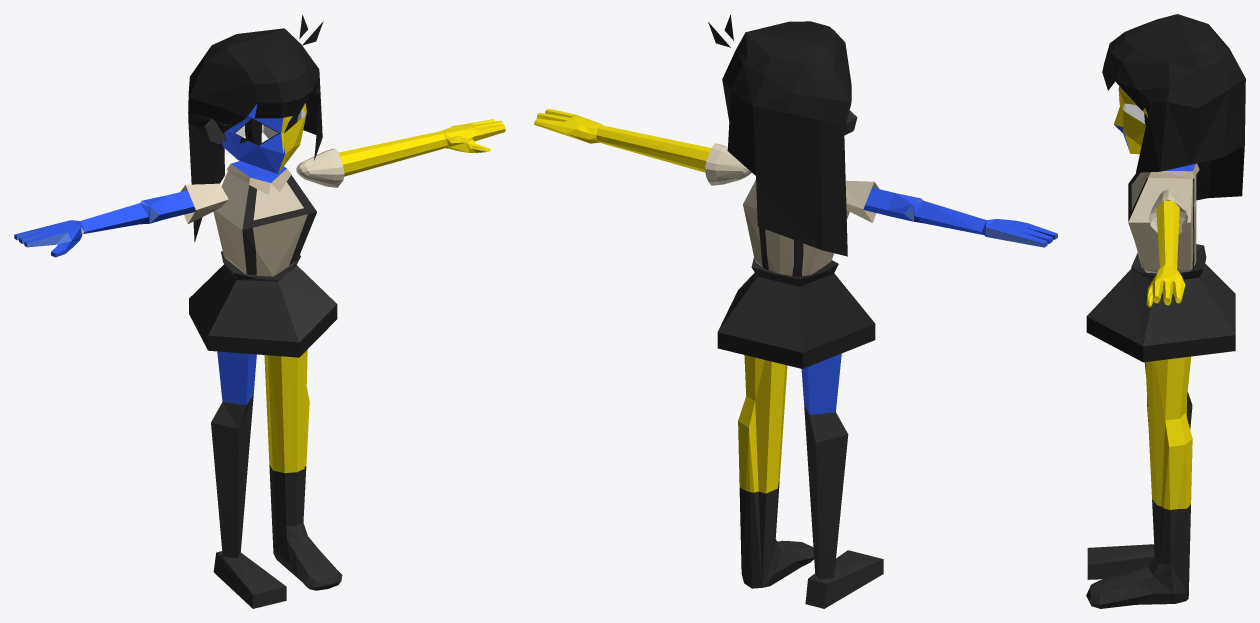
File: ENA splitted.obj
The picture shows the model from 3 angles, left to right: view 1: azimuth 30°, elevation 25°; view 2: azimuth 150°, elevation 25°; view 3: azimuth 270°, elevation 25°; orthographic projection. The views are drawn at different scales.
Parts seen in each view (by area): view 1: 3-_EnaMat_3-_EnaMat_4.3-_EnaMat.007_3-_EnaMat_3-_EnaMat_4.3-_Ena, 3-_EnaMat_3-_EnaMat_4.3-_EnaMat.012_3-_EnaMat_3-_EnaMat_4.3-_Ena, 3-_EnaMat_3-_EnaMat_4.3-_EnaMat.006_3-_EnaMat_3-_EnaMat_4.3-_Ena, 3-_EnaMat_3-_EnaMat_4.3-_EnaMat.010_3-_EnaMat_3-_EnaMat_4.3-_Ena, 3-_EnaMat_3-_EnaMat_4.3-_EnaMat.014_3-_EnaMat_3-_EnaMat_4.3-_Ena, 3-_EnaMat_3-_EnaMat_4.3-_EnaMat.016_3-_EnaMat_3-_EnaMat_4.3-_Ena, 3-_EnaMat_3-_EnaMat_4.3-_EnaMat.017_3-_EnaMat_3-_EnaMat_4.3-_Ena, 3-_EnaMat_3-_EnaMat_4.3-_EnaMat.009_3-_EnaMat_3-_EnaMat_4.3-_Ena, 3-_EnaMat_3-_EnaMat_4.3-_EnaMat.013_3-_EnaMat_3-_EnaMat_4.3-_Ena, 3-_EnaMat_3-_EnaMat_4.3-_EnaMat.003_3-_EnaMat_3-_EnaMat_4.3-_Ena, 3-_EnaMat_3-_EnaMat_4.3-_EnaMat.008_3-_EnaMat_3-_EnaMat_4.3-_Ena, 3-_EnaMat_3-_EnaMat_4.3-_EnaMat.011_3-_EnaMat_3-_EnaMat_4.3-_Ena (+3 smaller); view 2: 3-_EnaMat_3-_EnaMat_4.3-_EnaMat.007_3-_EnaMat_3-_EnaMat_4.3-_Ena, 3-_EnaMat_3-_EnaMat_4.3-_EnaMat.012_3-_EnaMat_3-_EnaMat_4.3-_Ena, 3-_EnaMat_3-_EnaMat_4.3-_EnaMat.010_3-_EnaMat_3-_EnaMat_4.3-_Ena, 3-_EnaMat_3-_EnaMat_4.3-_EnaMat.014_3-_EnaMat_3-_EnaMat_4.3-_Ena, 3-_EnaMat_3-_EnaMat_4.3-_EnaMat.006_3-_EnaMat_3-_EnaMat_4.3-_Ena, 3-_EnaMat_3-_EnaMat_4.3-_EnaMat.017_3-_EnaMat_3-_EnaMat_4.3-_Ena, 3-_EnaMat_3-_EnaMat_4.3-_EnaMat.016_3-_EnaMat_3-_EnaMat_4.3-_Ena, 3-_EnaMat_3-_EnaMat_4.3-_EnaMat.013_3-_EnaMat_3-_EnaMat_4.3-_Ena, 3-_EnaMat_3-_EnaMat_4.3-_EnaMat.009_3-_EnaMat_3-_EnaMat_4.3-_Ena, 3-_EnaMat_3-_EnaMat_4.3-_EnaMat.003_3-_EnaMat_3-_EnaMat_4.3-_Ena, 3-_EnaMat_3-_EnaMat_4.3-_EnaMat.008_3-_EnaMat_3-_EnaMat_4.3-_Ena, 3-_EnaMat_3-_EnaMat_4.3-_EnaMat.005_3-_EnaMat_3-_EnaMat_4.3-_Ena (+3 smaller); view 3: 3-_EnaMat_3-_EnaMat_4.3-_EnaMat.007_3-_EnaMat_3-_EnaMat_4.3-_Ena, 3-_EnaMat_3-_EnaMat_4.3-_EnaMat.012_3-_EnaMat_3-_EnaMat_4.3-_Ena, 3-_EnaMat_3-_EnaMat_4.3-_EnaMat.010_3-_EnaMat_3-_EnaMat_4.3-_Ena, 3-_EnaMat_3-_EnaMat_4.3-_EnaMat.006_3-_EnaMat_3-_EnaMat_4.3-_Ena, 3-_EnaMat_3-_EnaMat_4.3-_EnaMat.016_3-_EnaMat_3-_EnaMat_4.3-_Ena, 3-_EnaMat_3-_EnaMat_4.3-_EnaMat.008_3-_EnaMat_3-_EnaMat_4.3-_Ena, 3-_EnaMat_3-_EnaMat_4.3-_EnaMat.017_3-_EnaMat_3-_EnaMat_4.3-_Ena, 3-_EnaMat_3-_EnaMat_4.3-_EnaMat.013_3-_EnaMat_3-_EnaMat_4.3-_Ena, 3-_EnaMat_3-_EnaMat_4.3-_EnaMat.015_3-_EnaMat_3-_EnaMat_4.3-_Ena, 3-_EnaMat_3-_EnaMat_4.3-_EnaMat.005_3-_EnaMat_3-_EnaMat_4.3-_Ena.
Part boxes in pixels (x1,y1,x2,y2): 3-_EnaMat_3-_EnaMat_4.3-_EnaMat.007_3-_EnaMat_3-_EnaMat_4.3-_Ena: [188, 14, 323, 242]; 3-_EnaMat_3-_EnaMat_4.3-_EnaMat.012_3-_EnaMat_3-_EnaMat_4.3-_Ena: [189, 251, 337, 357]; 3-_EnaMat_3-_EnaMat_4.3-_EnaMat.006_3-_EnaMat_3-_EnaMat_4.3-_Ena: [213, 161, 316, 276]; 3-_EnaMat_3-_EnaMat_4.3-_EnaMat.010_3-_EnaMat_3-_EnaMat_4.3-_Ena: [265, 382, 309, 525]; 3-_EnaMat_3-_EnaMat_4.3-_EnaMat.014_3-_EnaMat_3-_EnaMat_4.3-_Ena: [211, 395, 253, 558]; 3-_EnaMat_3-_EnaMat_4.3-_EnaMat.016_3-_EnaMat_3-_EnaMat_4.3-_Ena: [272, 518, 342, 590]; 3-_EnaMat_3-_EnaMat_4.3-_EnaMat.017_3-_EnaMat_3-_EnaMat_4.3-_Ena: [213, 551, 286, 608]; 3-_EnaMat_3-_EnaMat_4.3-_EnaMat.009_3-_EnaMat_3-_EnaMat_4.3-_Ena: [142, 183, 228, 223]; 3-_EnaMat_3-_EnaMat_4.3-_EnaMat.013_3-_EnaMat_3-_EnaMat_4.3-_Ena: [296, 145, 378, 187]; 3-_EnaMat_3-_EnaMat_4.3-_EnaMat.003_3-_EnaMat_3-_EnaMat_4.3-_Ena: [217, 351, 256, 405]; 3-_EnaMat_3-_EnaMat_4.3-_EnaMat.008_3-_EnaMat_3-_EnaMat_4.3-_Ena: [264, 350, 307, 392]; 3-_EnaMat_3-_EnaMat_4.3-_EnaMat.011_3-_EnaMat_3-_EnaMat_4.3-_Ena: [14, 220, 84, 257]; 3-_EnaMat_3-_EnaMat_4.3-_EnaMat.007_3-_EnaMat_3-_EnaMat_4.3-_Ena: [708, 15, 857, 256]; 3-_EnaMat_3-_EnaMat_4.3-_EnaMat.012_3-_EnaMat_3-_EnaMat_4.3-_Ena: [717, 258, 875, 368]; 3-_EnaMat_3-_EnaMat_4.3-_EnaMat.010_3-_EnaMat_3-_EnaMat_4.3-_Ena: [738, 393, 785, 549]; 3-_EnaMat_3-_EnaMat_4.3-_EnaMat.014_3-_EnaMat_3-_EnaMat_4.3-_Ena: [804, 404, 848, 579]; 3-_EnaMat_3-_EnaMat_4.3-_EnaMat.006_3-_EnaMat_3-_EnaMat_4.3-_Ena: [743, 180, 849, 276]; 3-_EnaMat_3-_EnaMat_4.3-_EnaMat.017_3-_EnaMat_3-_EnaMat_4.3-_Ena: [805, 550, 883, 608]; 3-_EnaMat_3-_EnaMat_4.3-_EnaMat.016_3-_EnaMat_3-_EnaMat_4.3-_Ena: [741, 539, 814, 588]; 3-_EnaMat_3-_EnaMat_4.3-_EnaMat.013_3-_EnaMat_3-_EnaMat_4.3-_Ena: [667, 140, 751, 185]; 3-_EnaMat_3-_EnaMat_4.3-_EnaMat.009_3-_EnaMat_3-_EnaMat_4.3-_Ena: [845, 180, 920, 222]; 3-_EnaMat_3-_EnaMat_4.3-_EnaMat.003_3-_EnaMat_3-_EnaMat_4.3-_Ena: [801, 353, 841, 414]; 3-_EnaMat_3-_EnaMat_4.3-_EnaMat.008_3-_EnaMat_3-_EnaMat_4.3-_Ena: [744, 355, 787, 404]; 3-_EnaMat_3-_EnaMat_4.3-_EnaMat.005_3-_EnaMat_3-_EnaMat_4.3-_Ena: [596, 125, 674, 162]; 3-_EnaMat_3-_EnaMat_4.3-_EnaMat.007_3-_EnaMat_3-_EnaMat_4.3-_Ena: [1102, 14, 1245, 200]; 3-_EnaMat_3-_EnaMat_4.3-_EnaMat.012_3-_EnaMat_3-_EnaMat_4.3-_Ena: [1086, 244, 1235, 362]; 3-_EnaMat_3-_EnaMat_4.3-_EnaMat.010_3-_EnaMat_3-_EnaMat_4.3-_Ena: [1148, 406, 1192, 565]; 3-_EnaMat_3-_EnaMat_4.3-_EnaMat.006_3-_EnaMat_3-_EnaMat_4.3-_Ena: [1128, 163, 1199, 273]; 3-_EnaMat_3-_EnaMat_4.3-_EnaMat.016_3-_EnaMat_3-_EnaMat_4.3-_Ena: [1086, 558, 1189, 608]; 3-_EnaMat_3-_EnaMat_4.3-_EnaMat.008_3-_EnaMat_3-_EnaMat_4.3-_Ena: [1145, 356, 1191, 420]; 3-_EnaMat_3-_EnaMat_4.3-_EnaMat.017_3-_EnaMat_3-_EnaMat_4.3-_Ena: [1087, 544, 1154, 579]; 3-_EnaMat_3-_EnaMat_4.3-_EnaMat.013_3-_EnaMat_3-_EnaMat_4.3-_Ena: [1149, 189, 1187, 239]; 3-_EnaMat_3-_EnaMat_4.3-_EnaMat.015_3-_EnaMat_3-_EnaMat_4.3-_Ena: [1146, 265, 1185, 307]; 3-_EnaMat_3-_EnaMat_4.3-_EnaMat.005_3-_EnaMat_3-_EnaMat_4.3-_Ena: [1158, 227, 1178, 269].
Bounding box in the file's own units: 4.02 × 4.28 × 1.09.
